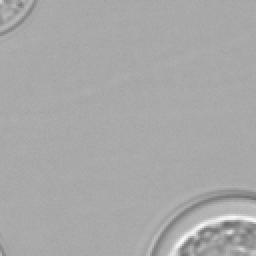picoshell: (136, 188, 254, 254)
